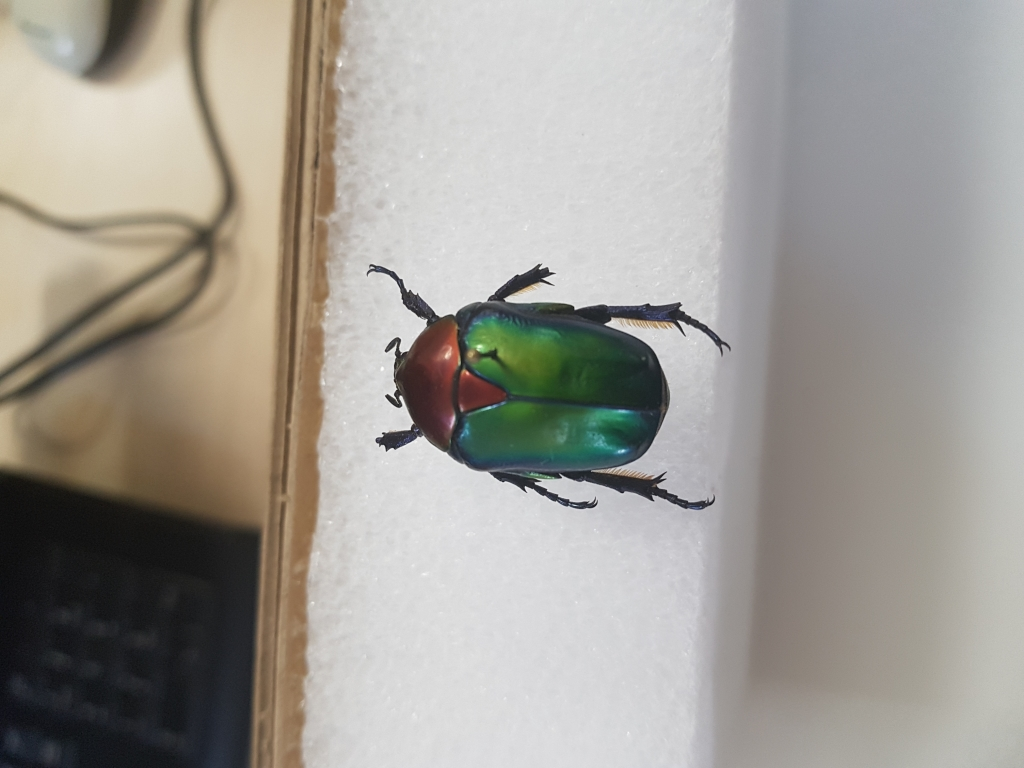Protaetia_speciosa_jousseliniw: (348, 248, 735, 526)
